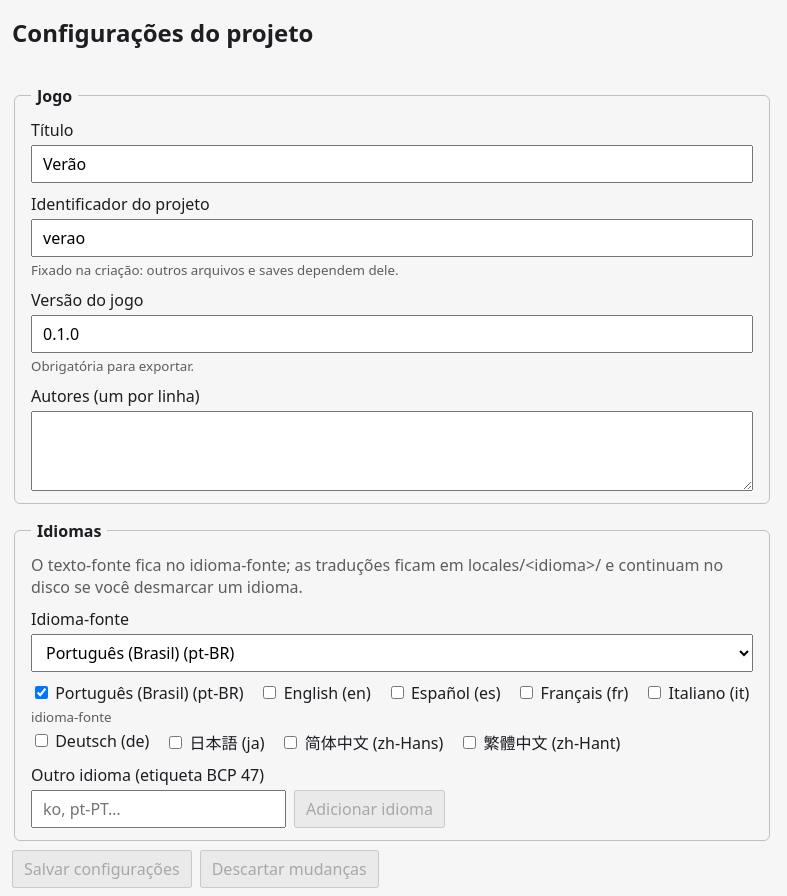
Test case: ProjectSettings (M7-10) › adiciona idioma e final, e o salvamento fica bloqueado com valor inválido
Later steps or results of the test are not shown.
Type "ko" into the field labelled "Outro idioma (etiqueta BCP 47)".
click(158, 809); type("ko")  # box 31,790 -> 286,828
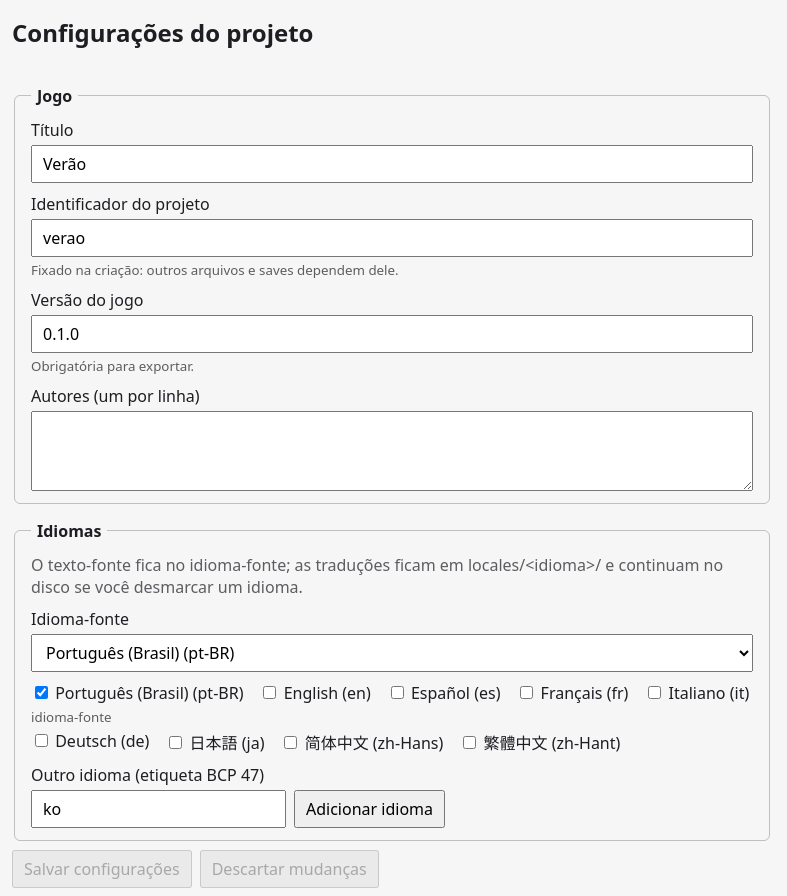
Click the button "Adicionar idioma".
click(370, 809)  # box 294,790 -> 445,828
(page scrolled)
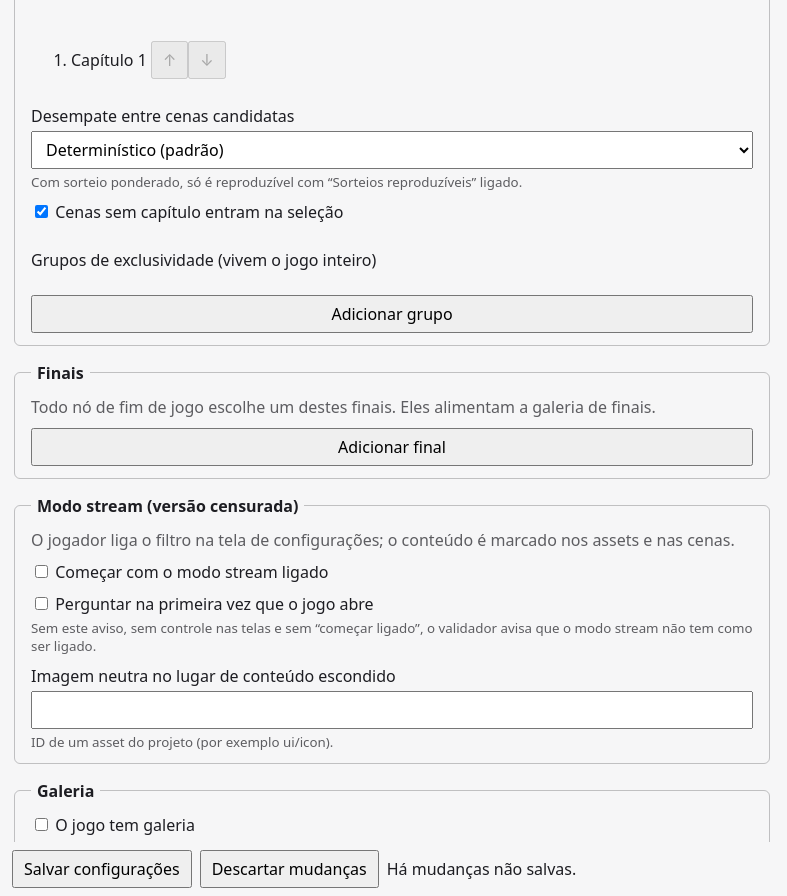
Click the button "Adicionar final".
click(392, 447)  # box 31,428 -> 753,466
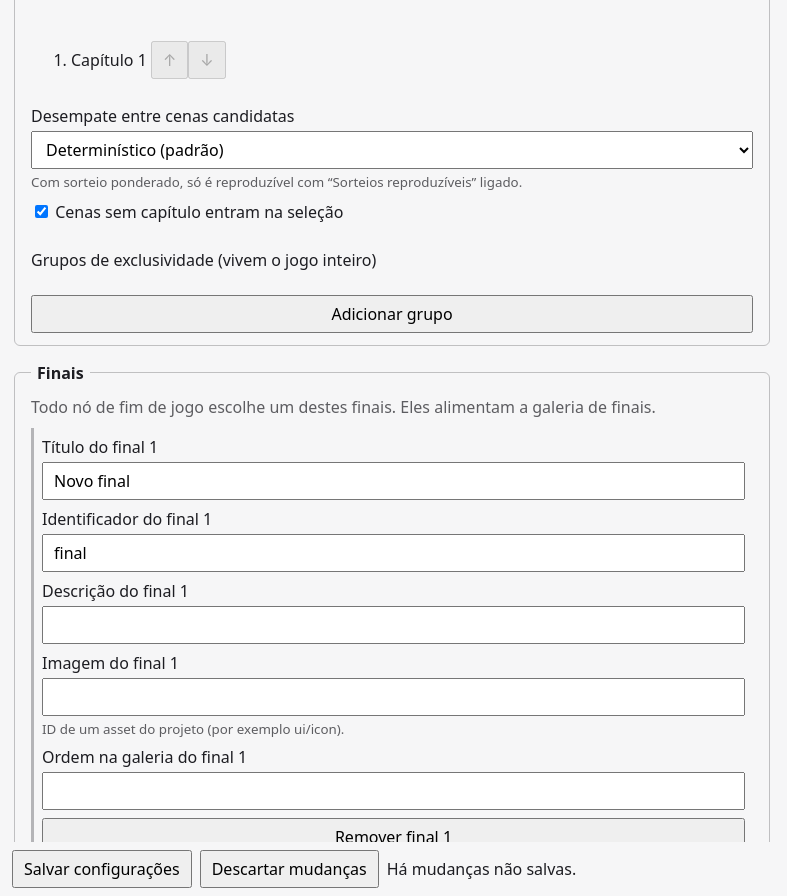
Replace the text in the field labelled "Título do final 1" with "Final feliz" at point(394, 481), box 42,462 -> 745,500
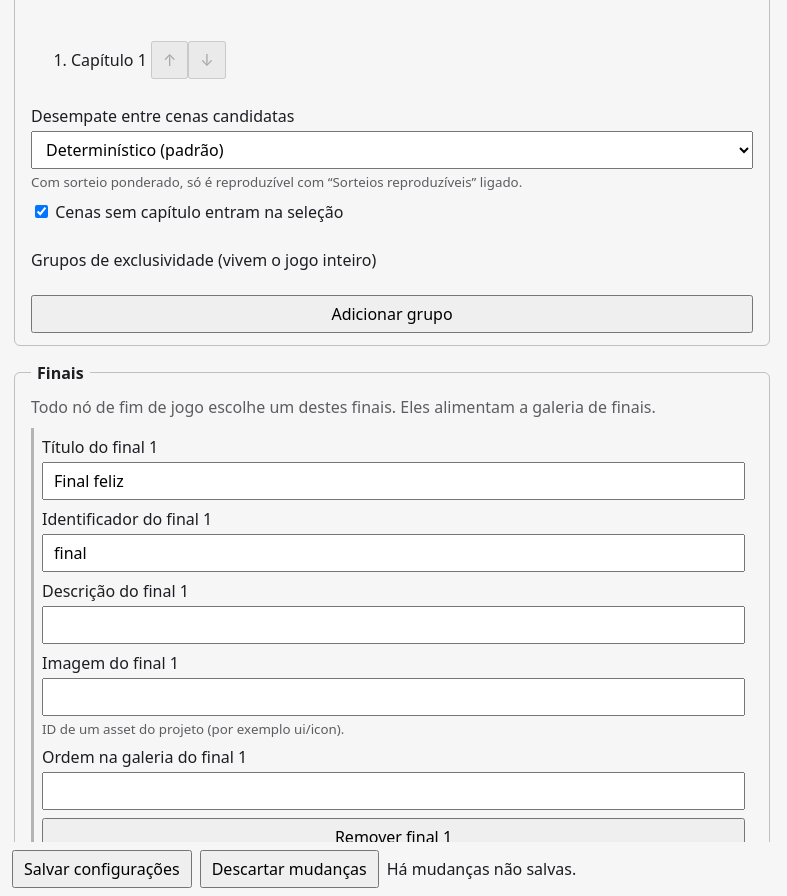
Replace the text in the field labelled "Identificador do final 1" with "Final Feliz" at point(394, 553), box 42,534 -> 745,572
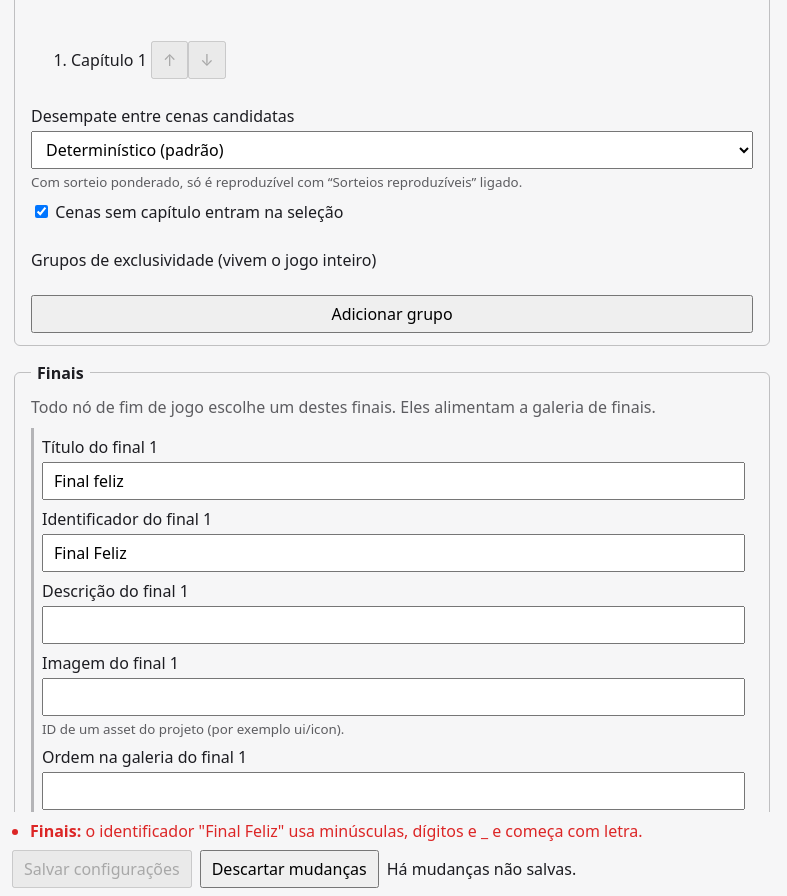
expect the list item "o identificador \"Final Feliz\" usa minúsculas" is shown: met, box 85,820 -> 642,842
expect the button "Salvar configurações" is disabled: met, box 12,850 -> 192,888
